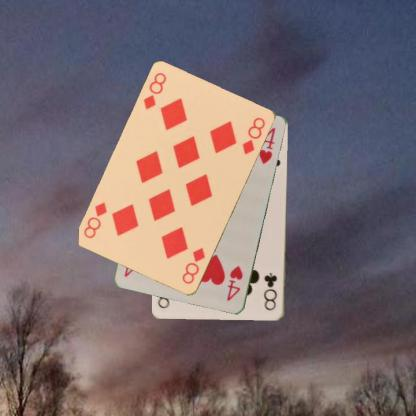4h: (224, 263, 245, 303)
8c: (261, 270, 279, 312)
8d: (180, 245, 207, 286), (141, 70, 168, 111)
